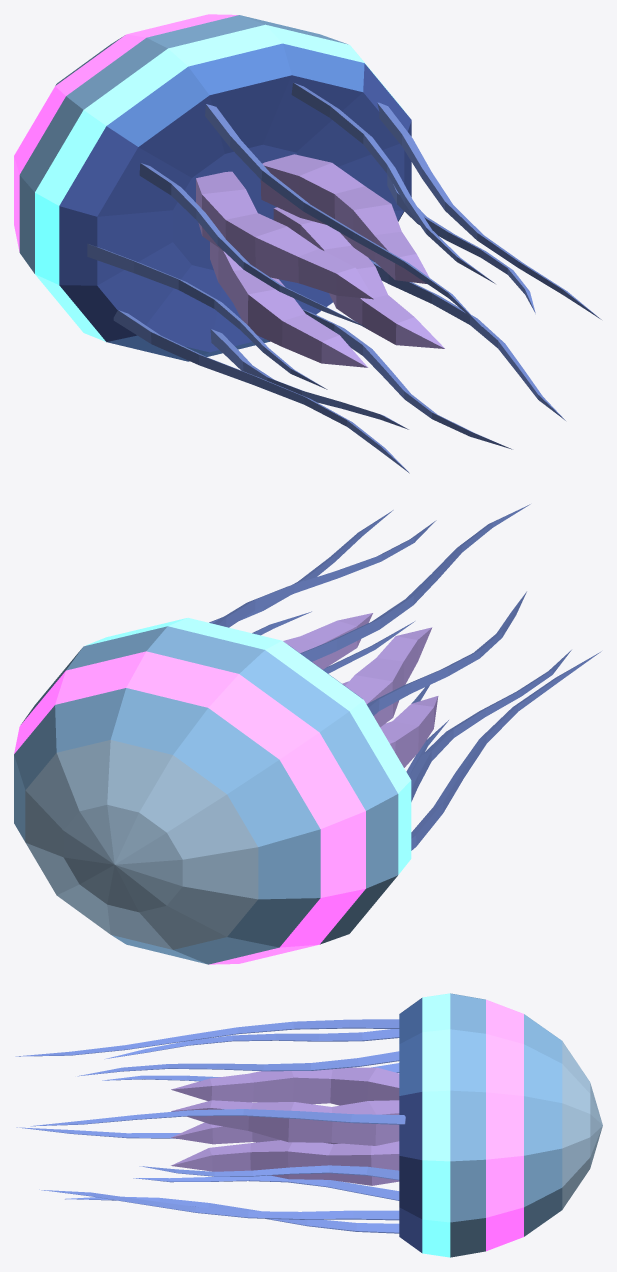
File: drum-jelly.glb
3 views of the same model, one above another, from view 1: azimuth 30°, elevation 25°; view 2: azimuth 150°, elevation 25°; view 3: azimuth 270°, elevation 25° (orthographic). The views are drawn at different scales.
Visible parts, largest first — view 1: drum_jelly; view 2: drum_jelly; view 3: drum_jelly.
Boxes of the visible parts, box(x1,y1,x2,y2) form: drum_jelly: box(14, 14, 601, 473); drum_jelly: box(14, 504, 601, 964); drum_jelly: box(15, 993, 602, 1257).
Size of the model in its own units: 2.47 by 1.98 by 4.63.
